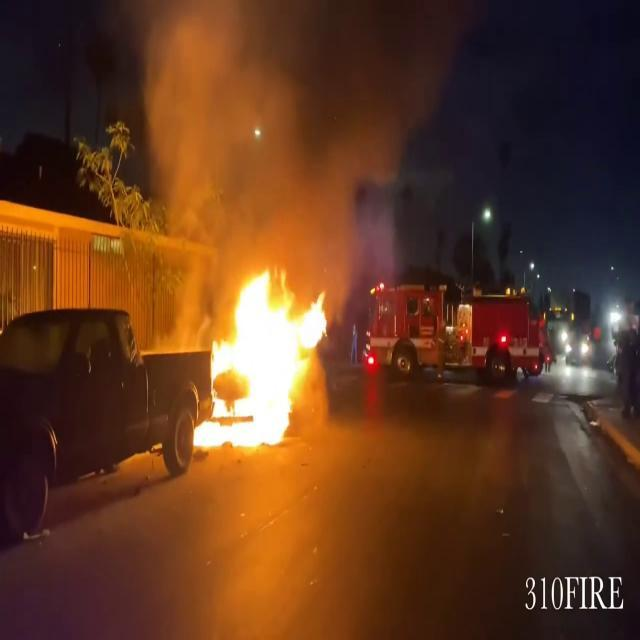Fire: (188, 262, 330, 456)
Smoke: (135, 0, 452, 266)
